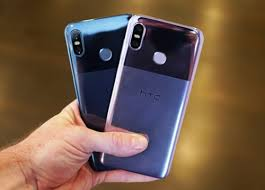htc: (98, 13, 208, 175)
